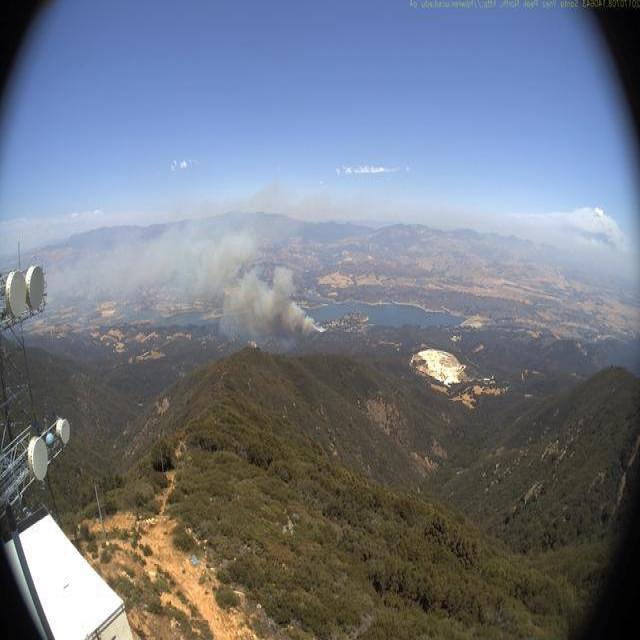Smoke: (78, 194, 331, 354)
